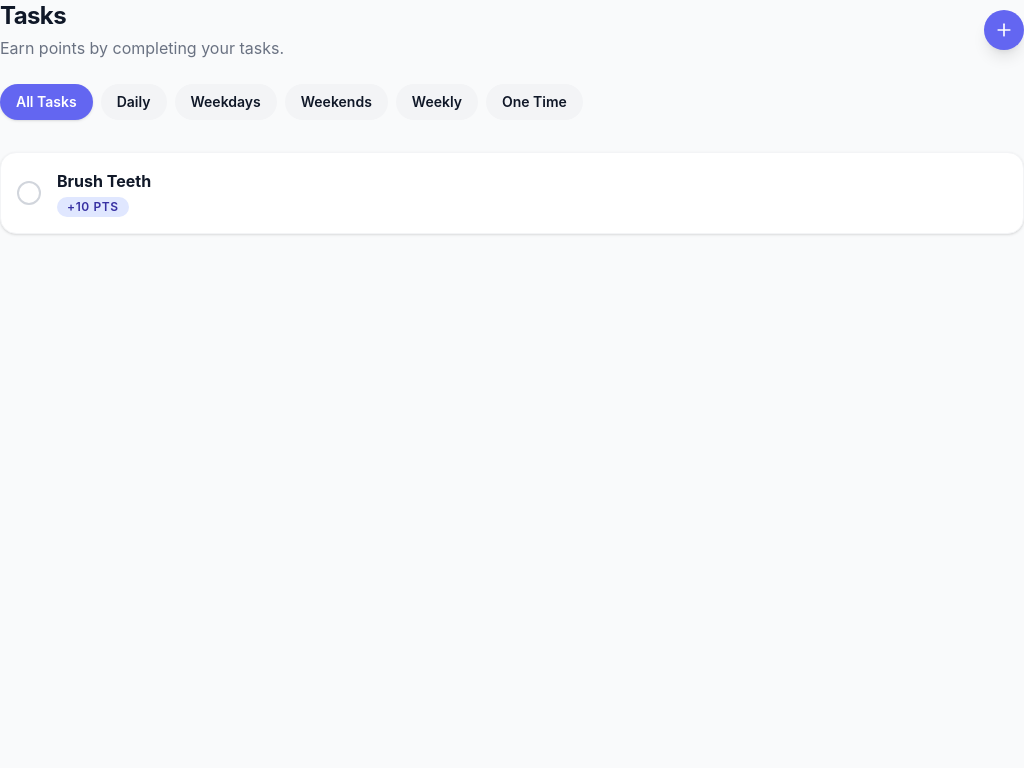
Test: Tasks page — save lifecycle › a failed save keeps the modal open, shows the error, and adds no task
Click the button named "Add Task": (1004, 30) [984,10,1023,50]
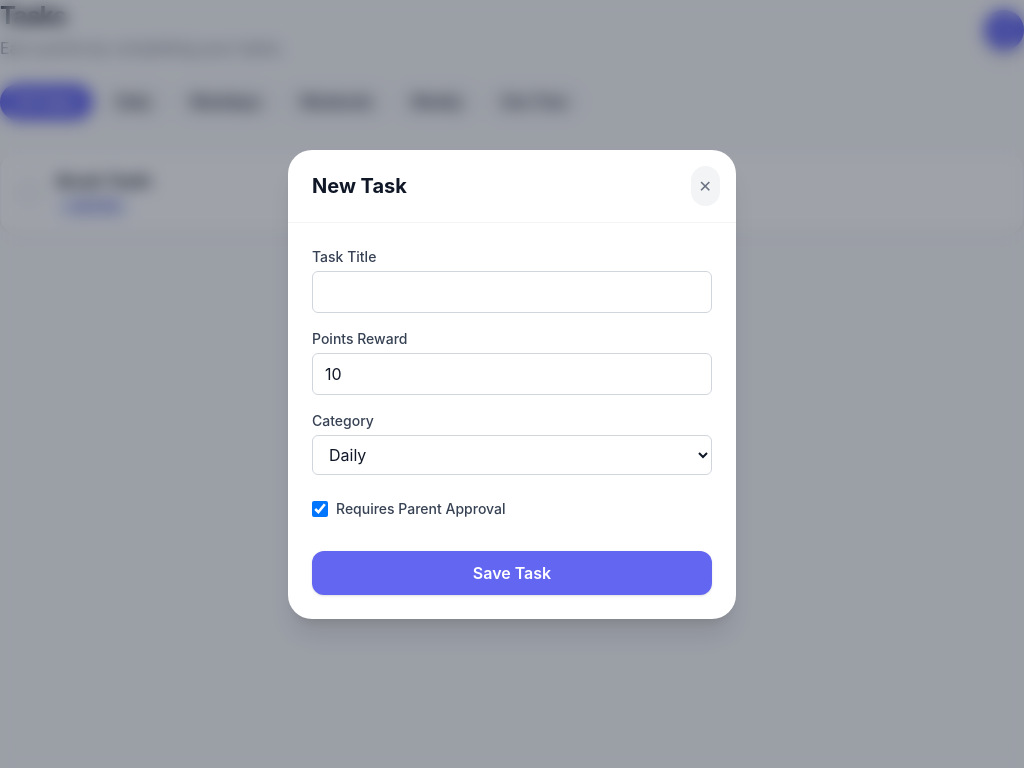
In the field: (512, 292) [312,270,712,312], type "Tidy room"
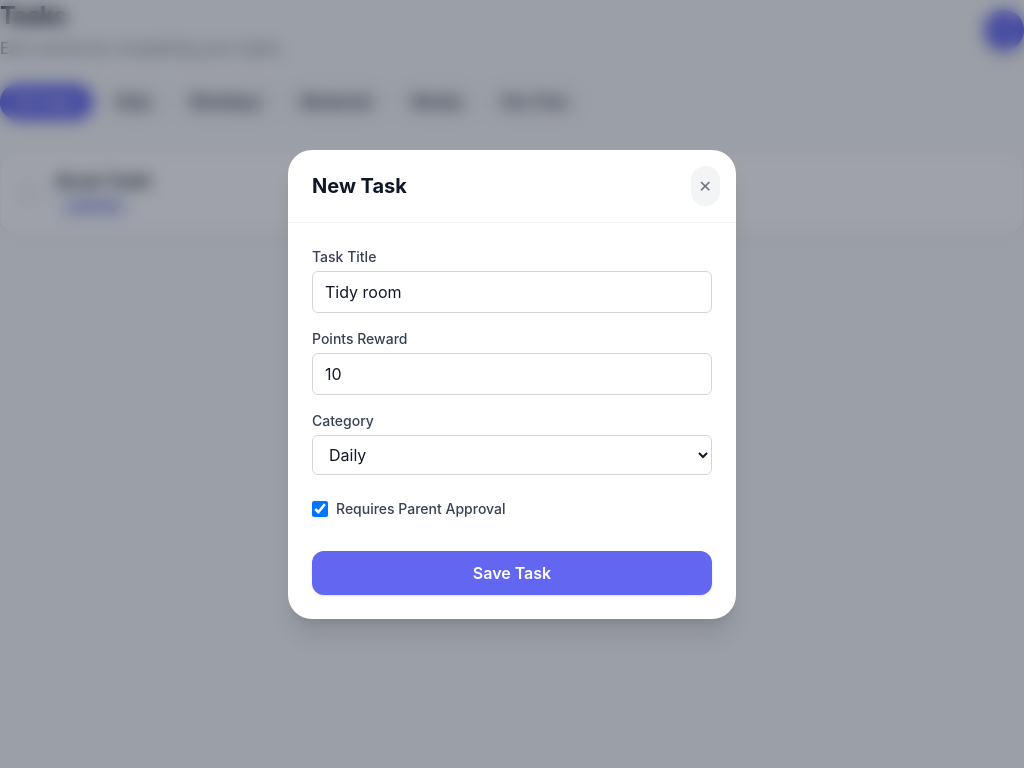
Click the button "Save Task": (512, 572) [312,550,712,594]
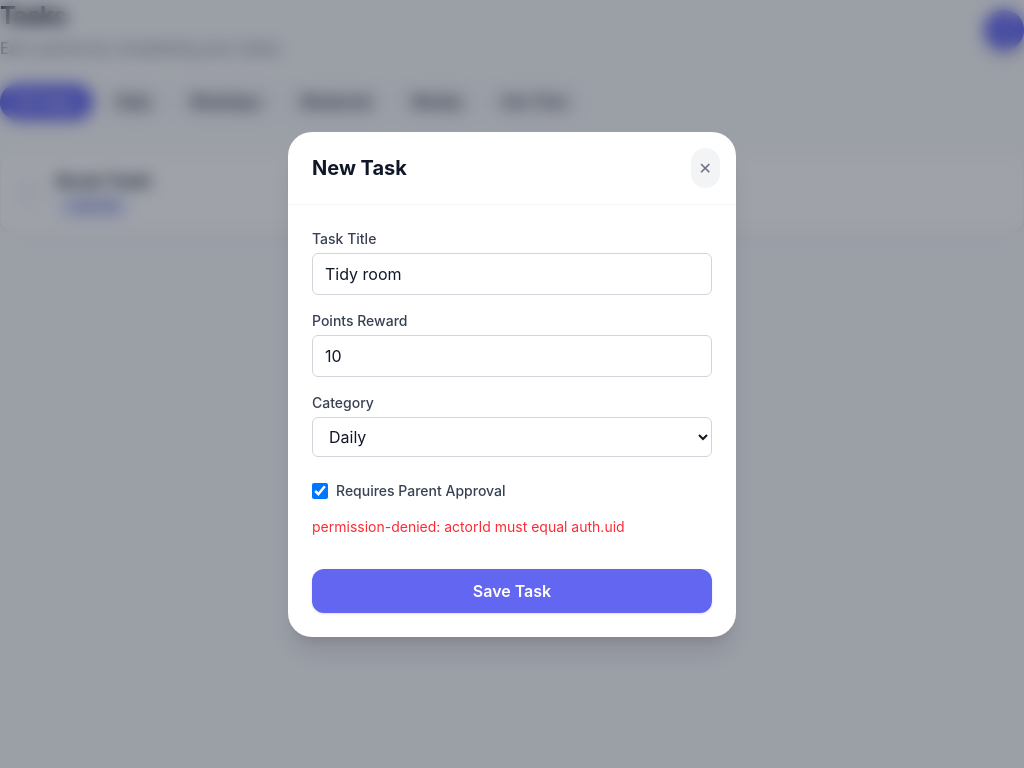
Expected: the heading "Brush Teeth" is shown, [57,171,151,191]
Expected: the heading "New Task" is shown, [312,154,407,182]
Expected: the text "permission-denied: actorId must equal auth.uid" is shown, [312,518,625,534]
